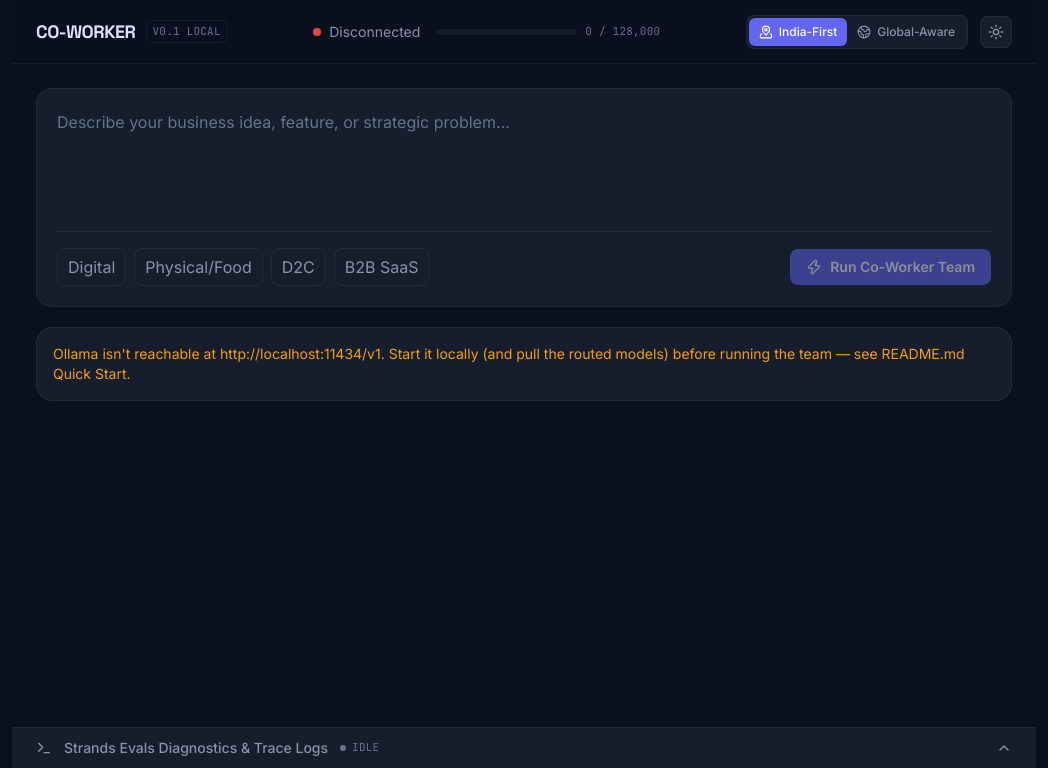
it: App: loading skeleton › replaces the skeleton with the result once the run completes
Later steps or results of the test are not shown.
Type "an idea" into the text box with placeholder "Describe your business idea, feature, or strategic problem…" at (524, 159), box [57,109,991,209]
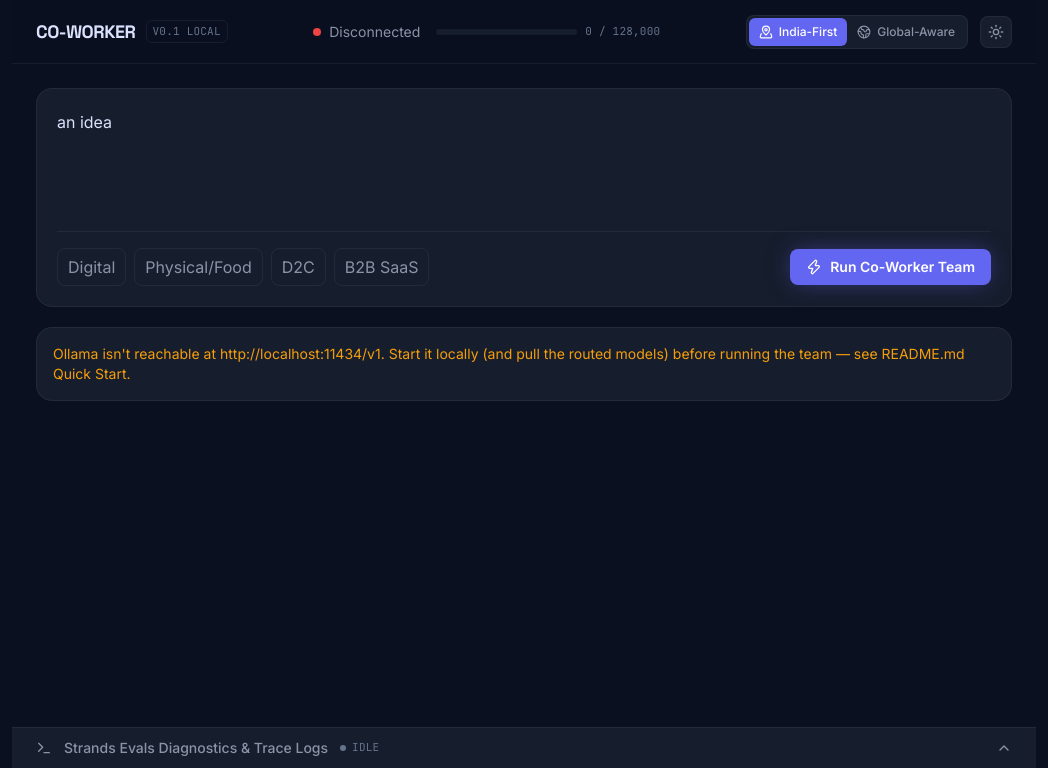
Click the button "Run Co-Worker Team" at (891, 267), box [790,249,991,285]
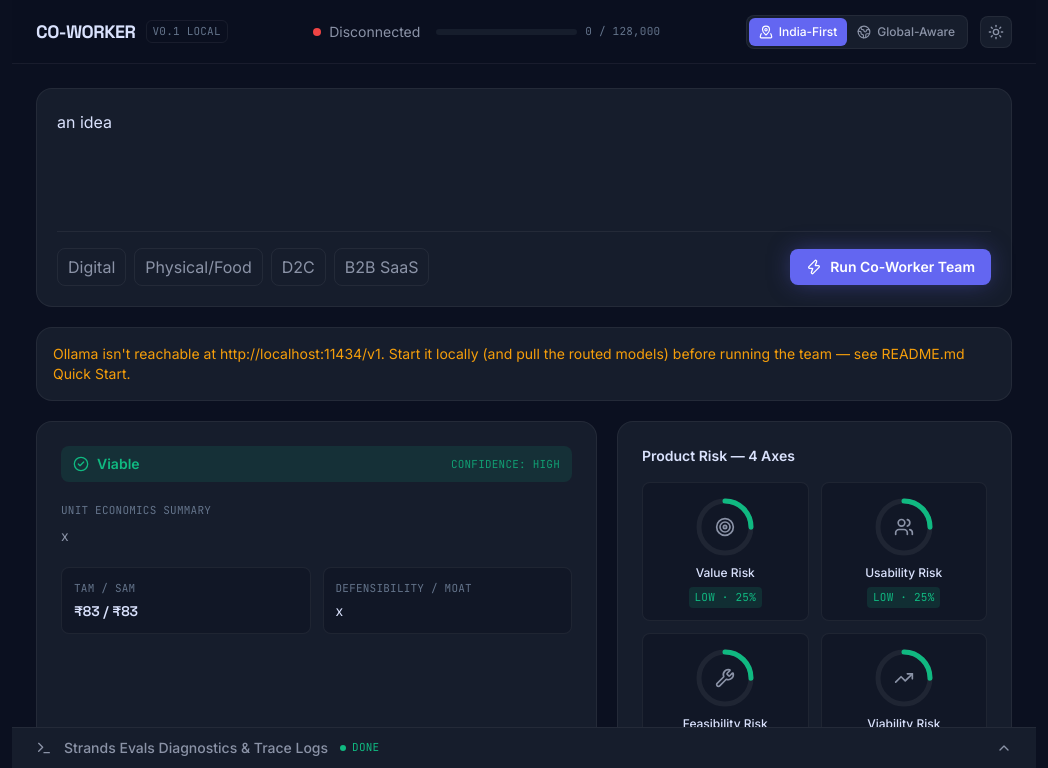
Now the heading "Product Risk — 4 Axes" is shown, box [642,447,795,464]
